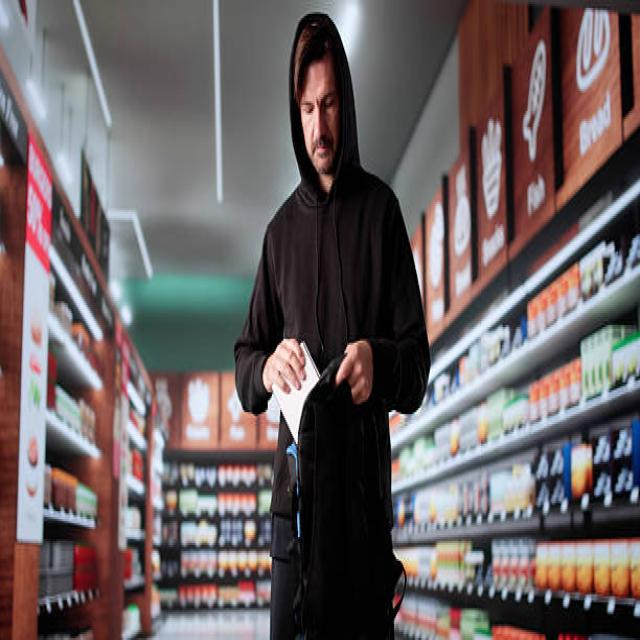article: (274, 341, 319, 442)
bags: (288, 357, 405, 638)
hands: (262, 339, 304, 392), (336, 341, 372, 402)
person: (234, 14, 429, 638)
